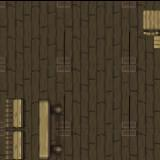Obstacle: (33, 96, 63, 160), (139, 5, 160, 52), (2, 95, 26, 128), (2, 127, 25, 160)
